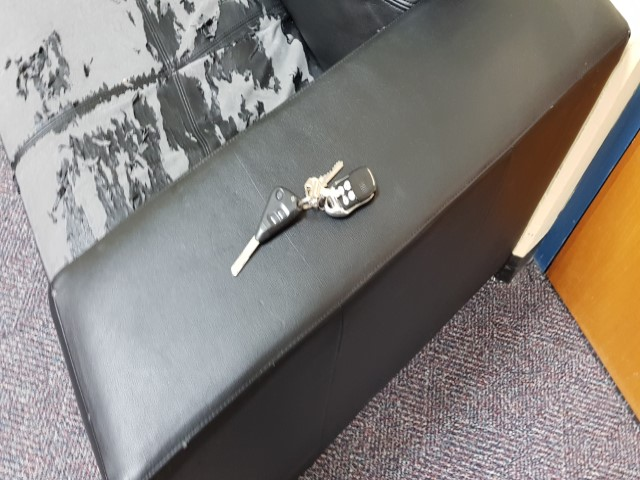key: (228, 184, 303, 278)
